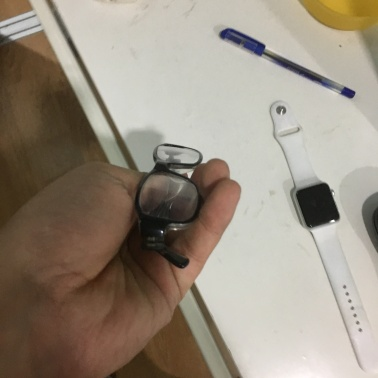glasses: (142, 140, 206, 260)
